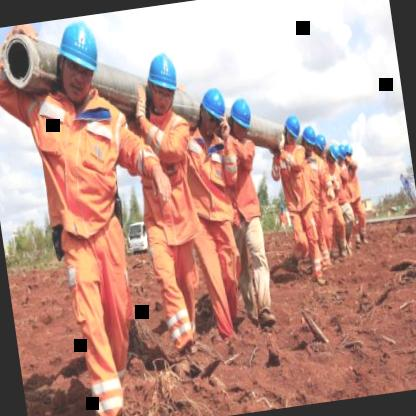helmet: (48, 14, 110, 110), (138, 46, 184, 122), (198, 83, 232, 141), (279, 110, 312, 160), (226, 96, 256, 141), (296, 127, 320, 157), (314, 130, 330, 156), (326, 141, 341, 165), (336, 140, 348, 162)
